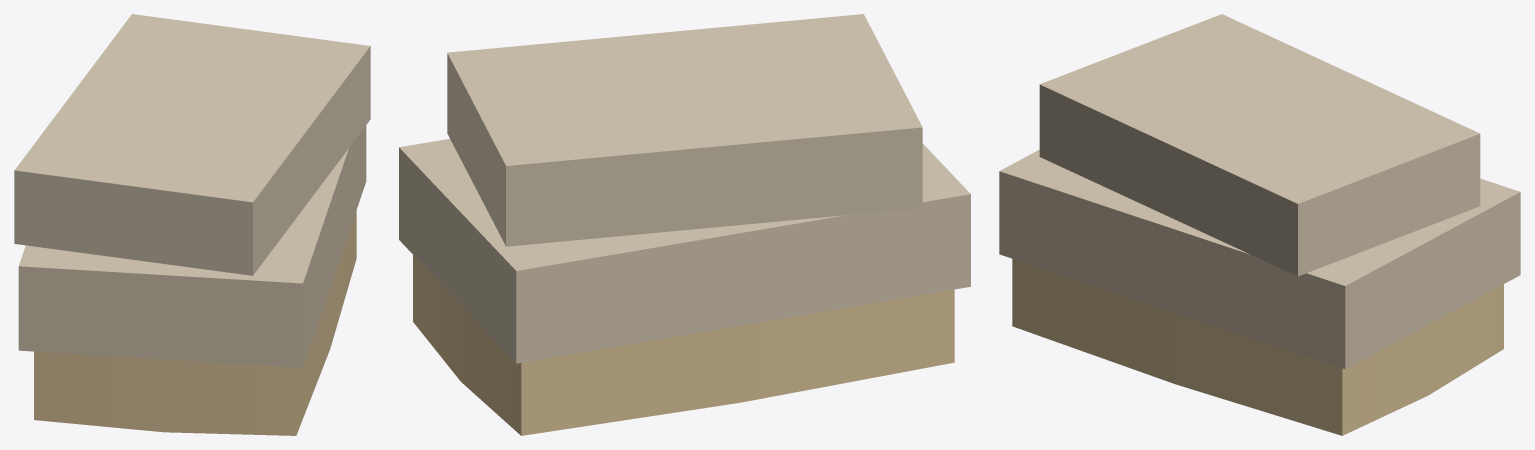
File: boxes.fbx
The picture shows the model from 3 angles, left to right: view 1: azimuth 30°, elevation 25°; view 2: azimuth 150°, elevation 25°; view 3: azimuth 270°, elevation 25°; orthographic projection. The views are drawn at different scales.
Visible parts, largest first — view 1: boxes; view 2: boxes; view 3: boxes.
Part boxes in pixels (<box>): boxes: <box>14,14,370,435</box>; boxes: <box>399,14,970,435</box>; boxes: <box>999,14,1520,435</box>.
Bounding box in the file's own units: 1.2 × 0.6157 × 1.27.
